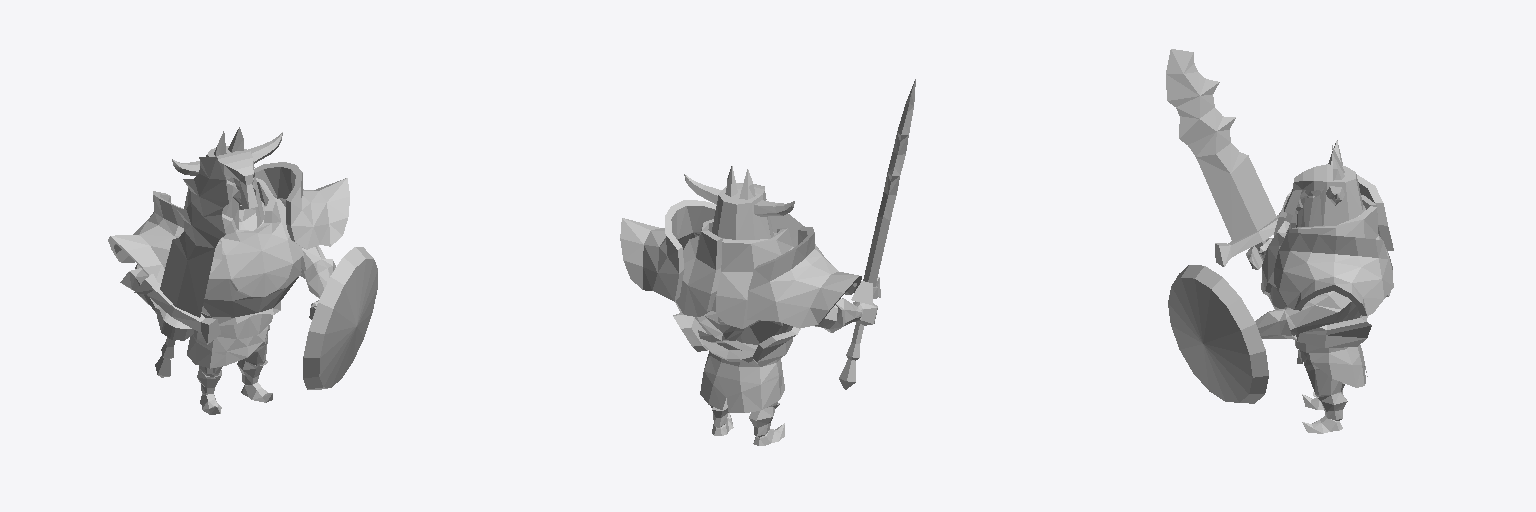
Rendered from Darknut.obj.
3 views of the same model, side by side, from view 1: azimuth 30°, elevation 25°; view 2: azimuth 150°, elevation 25°; view 3: azimuth 270°, elevation 25° (orthographic).
Parts seen in each view (by area): view 1: n6b6; view 2: n6b6; view 3: n6b6.
Boxes of the visible parts, x1,y1,x2,y2 form: n6b6: [108, 127, 377, 414]; n6b6: [620, 79, 915, 445]; n6b6: [1166, 49, 1393, 433].
Size of the model in its own units: 2.29 by 2.98 by 1.91.